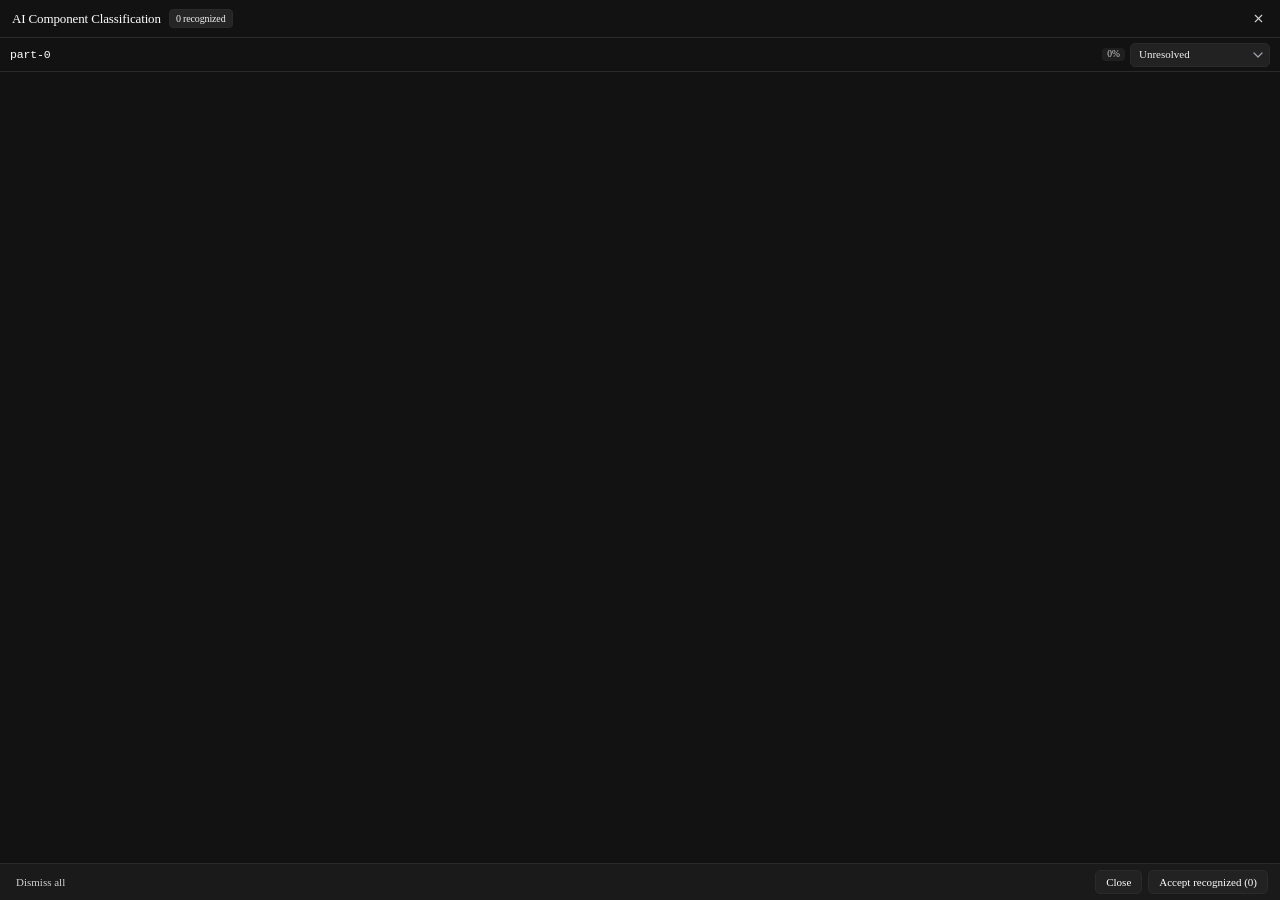
Test: AiClassifyModal component › counts a user-edited unresolved entry as recognized
Expected: the text "0 recognized" is shown, [169, 9, 233, 28]
Select "Top Shell / Upper Housing" in the dropdown at [1200, 54], box [1130, 42, 1270, 66]
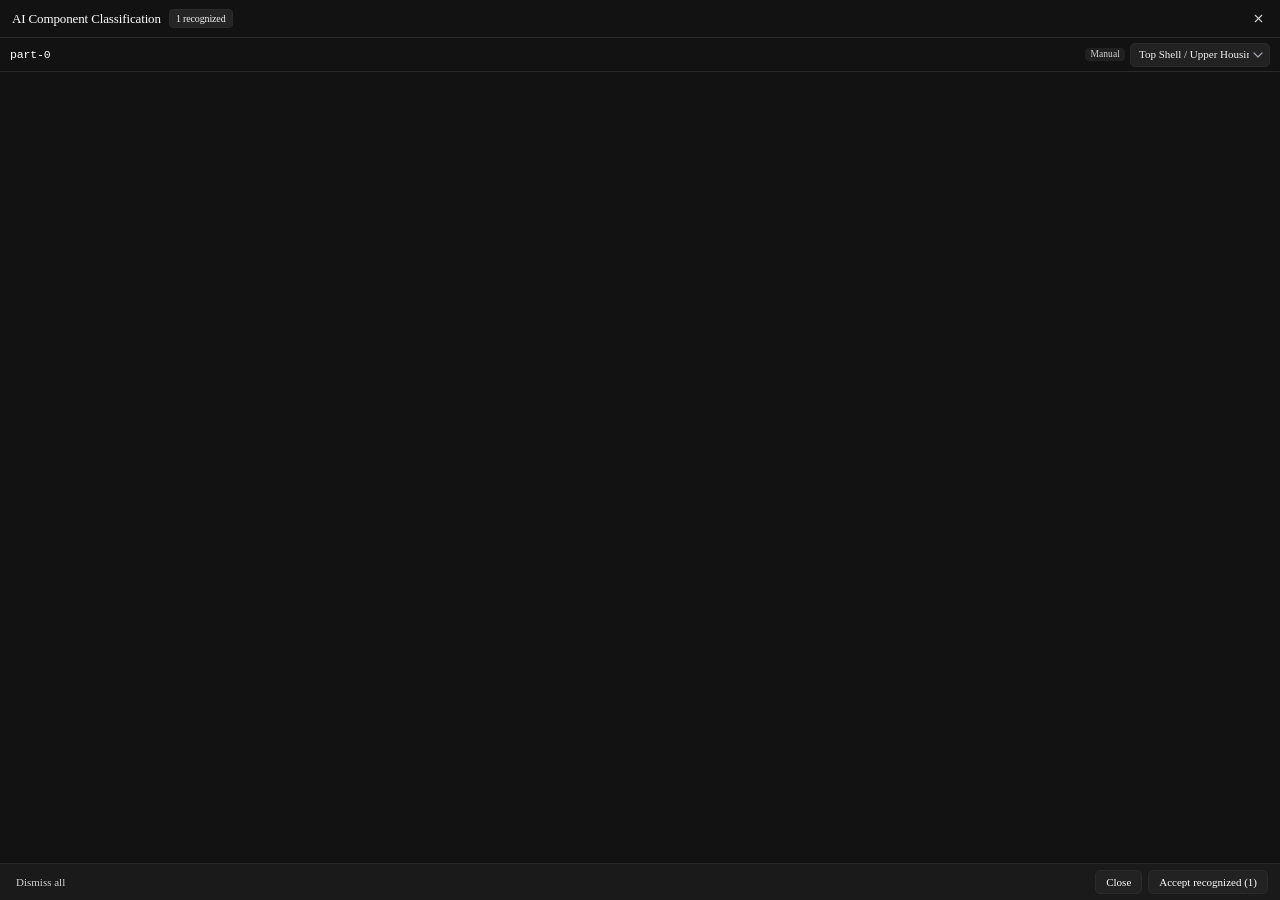
Now the text "1 recognized" is shown, box [169, 9, 233, 28]
Now the button "Accept recognized (1)" is shown, box [1148, 870, 1268, 894]
